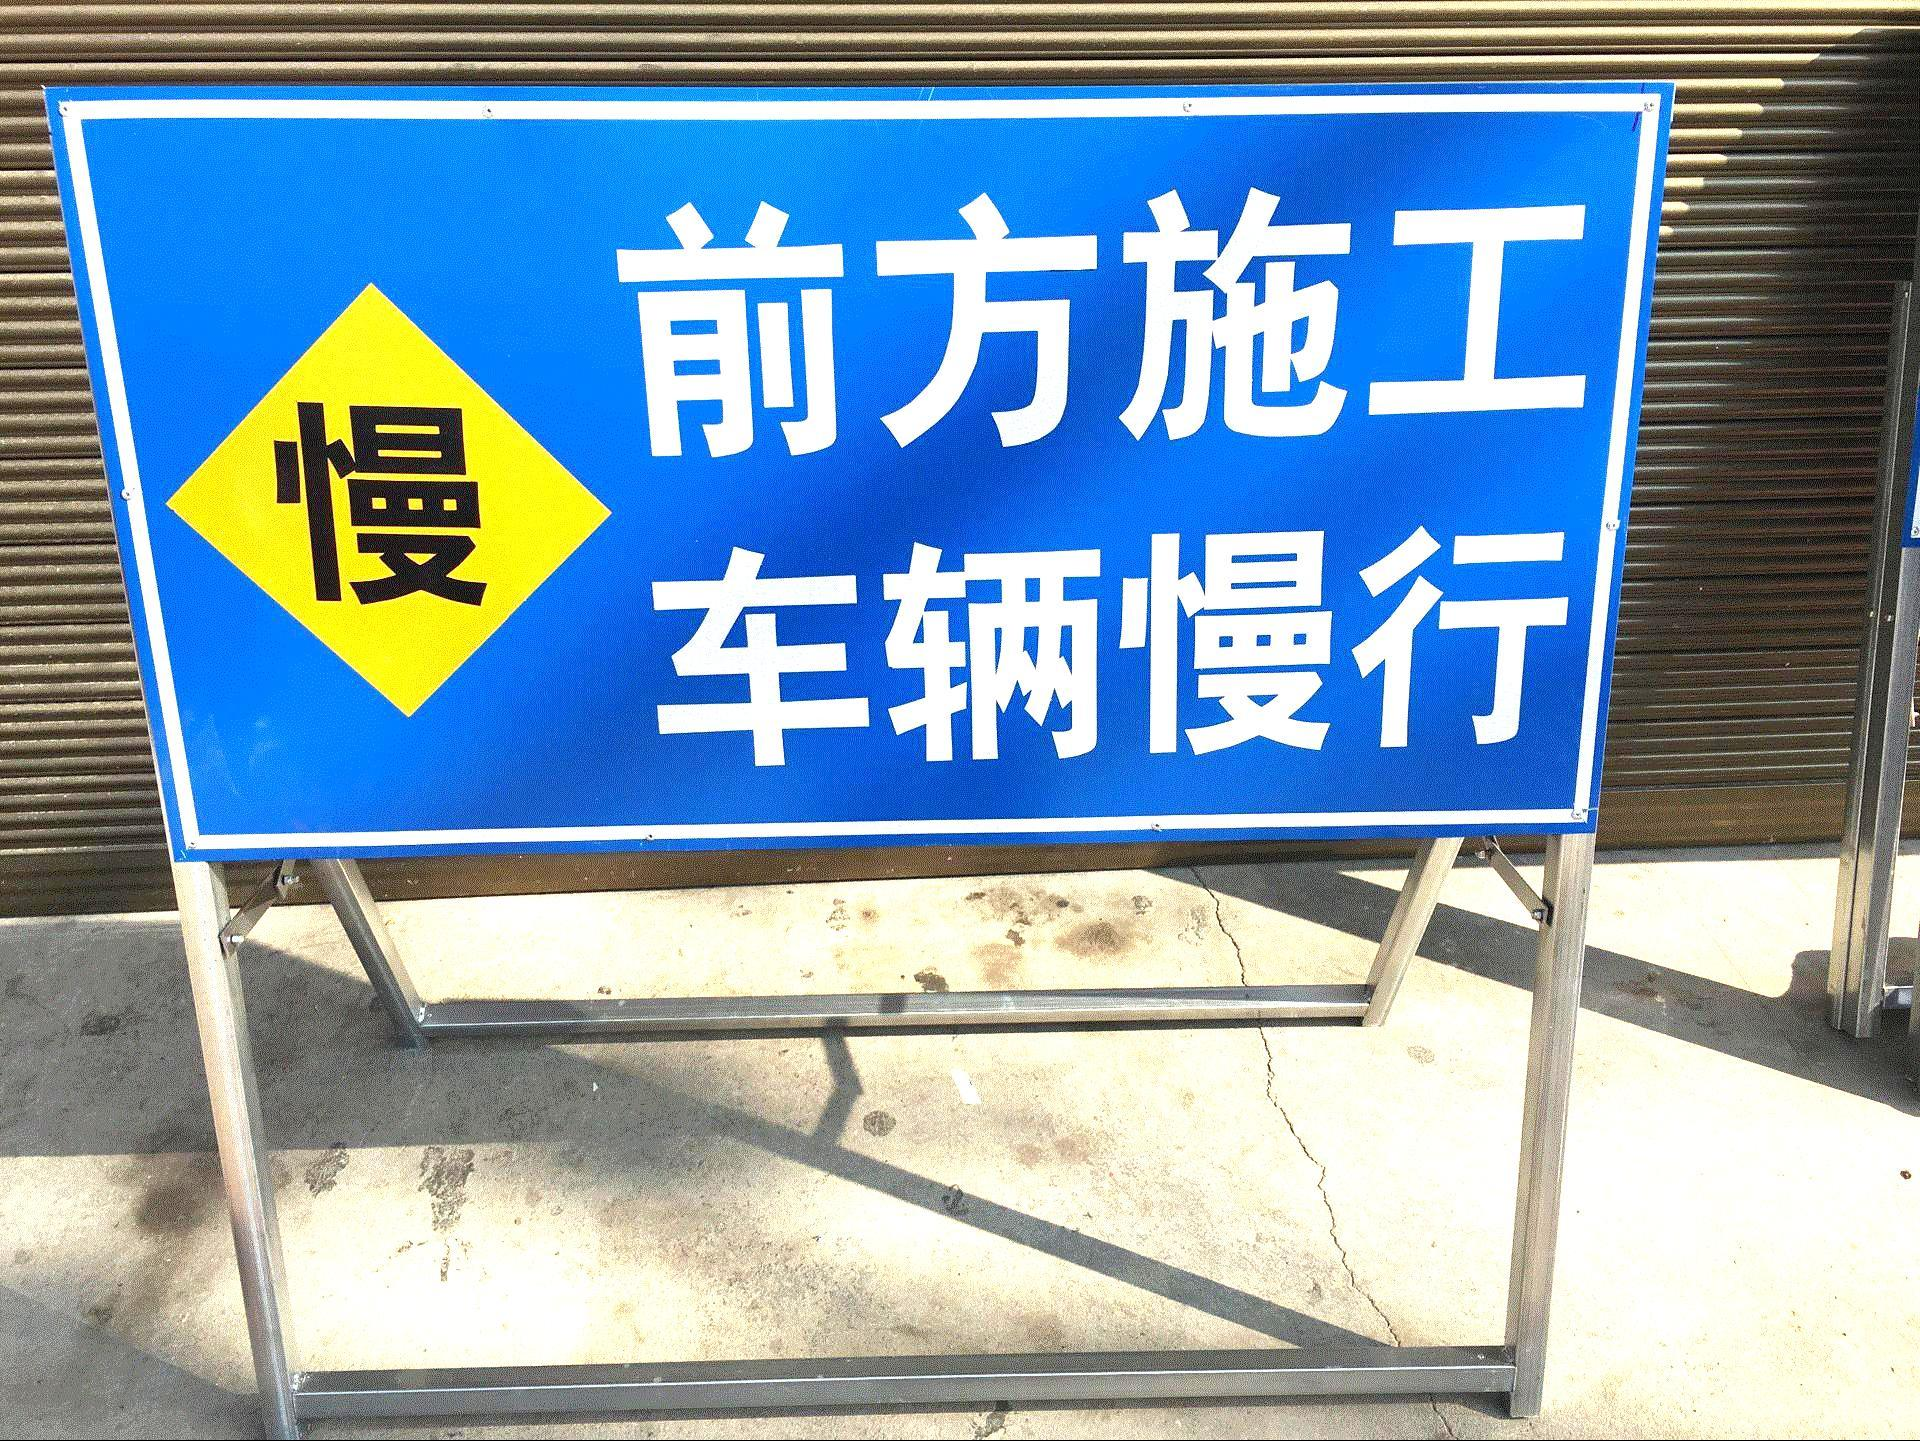sign: (50, 92, 1628, 846)
